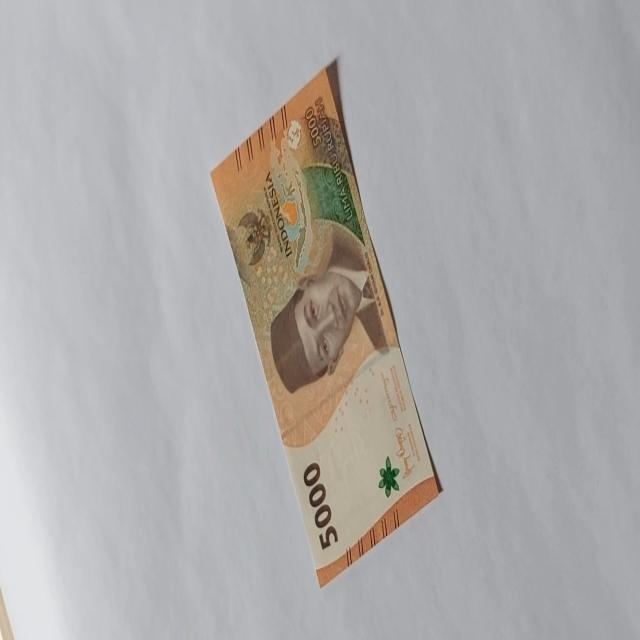lima ribu rupiah: (209, 57, 441, 587), (268, 237, 376, 396)
